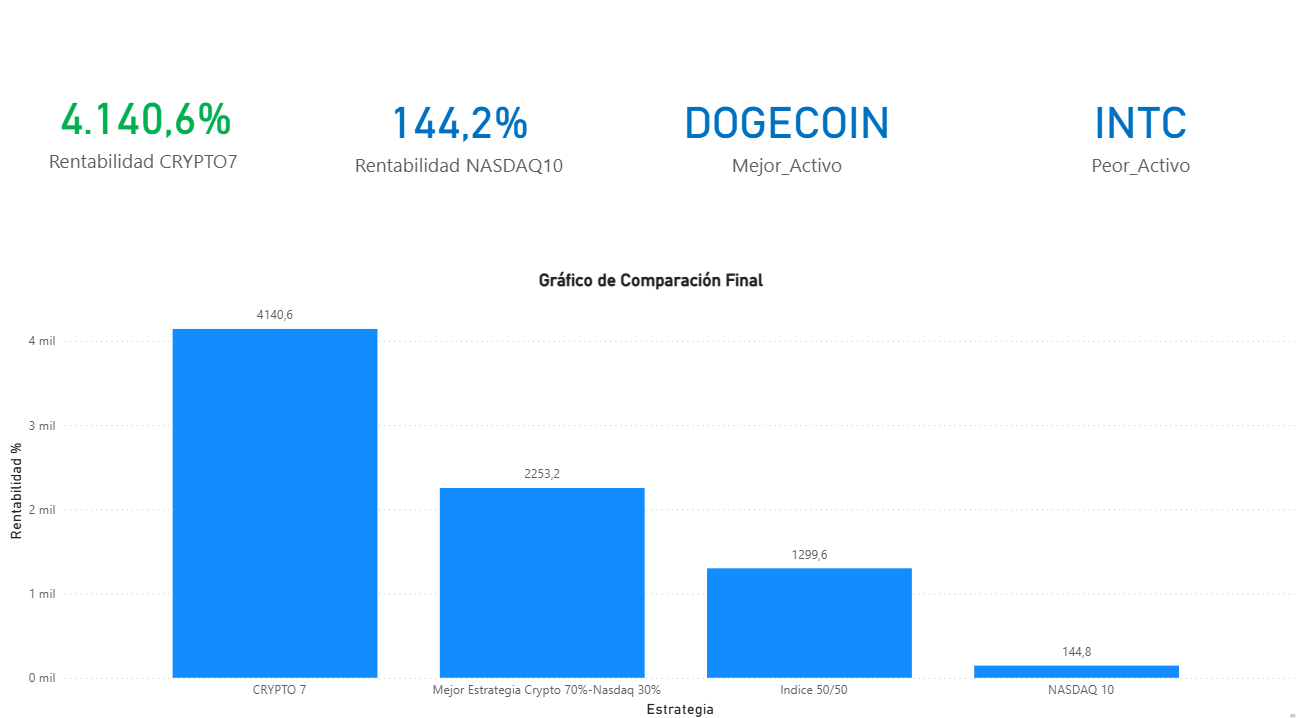

The dashboard page shown, as its layout file describes it:
{"tool":"powerbi","page":{"name":"COMPARACIÓN FINAL","canvas":[1280,720],"ordinal":4},"visuals":[{"type":"card","fields":{"Values":["03_indices_data.Retorno_CRYPTO7"]},"box":[10,0,280,280],"z":0},{"type":"card","fields":{"Values":["03_indices_data.Retorno_NASDAQ10"]},"box":[314.6,8.6,280,271.4],"z":1000},{"type":"card","fields":{"Values":["02_asset_summary.Mejor_Activo"]},"box":[633.2,8.8,280.1,271.4],"z":2000},{"type":"card","fields":{"Values":["02_asset_summary.Peor_Activo"]},"box":[977.5,8.8,280.1,271.4],"z":3000},{"type":"clusteredColumnChart","title":"Gráfico de Comparación Final","fields":{"Category":["estrategias_rentabilidad.Estrategia"],"Y":["Sum(estrategias_rentabilidad.Retorno (%))"]},"box":[9.7,280.1,1262.5,439.6],"z":4000},{"type":"textbox","box":[1257.6,707.1,14.6,12.6],"z":5000}]}

Visuals, with their boxes in screenshot pixels (x1, y1, x2, y2), scaled from the page's 1280x720 canvas onto the 1307x718 screenshot:
card - 03_indices_data.Retorno_CRYPTO7: box=[10, 0, 296, 279]
card - 03_indices_data.Retorno_NASDAQ10: box=[321, 9, 607, 279]
card - 02_asset_summary.Mejor_Activo: box=[647, 9, 933, 279]
card - 02_asset_summary.Peor_Activo: box=[998, 9, 1284, 279]
"Gráfico de Comparación Final" clusteredColumnChart: box=[10, 279, 1299, 717]
textbox: box=[1284, 705, 1299, 717]
